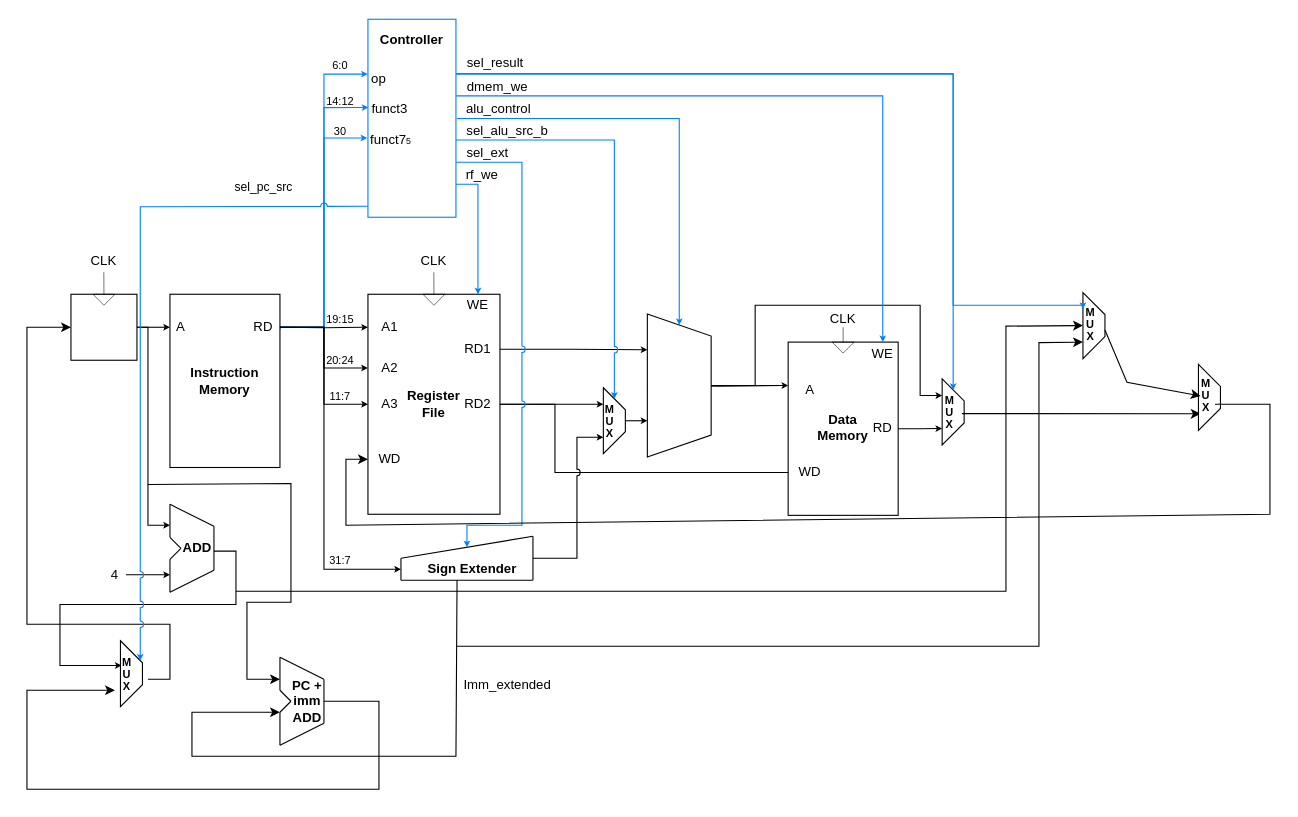
The diagram is 1298 pixels wide and 817 high, and some of its shapes have lost their labels. The centre of each missing label's shape, as x and y in pixels:
ALU: pixel 678 385
Program Counter: pixel 103 326
